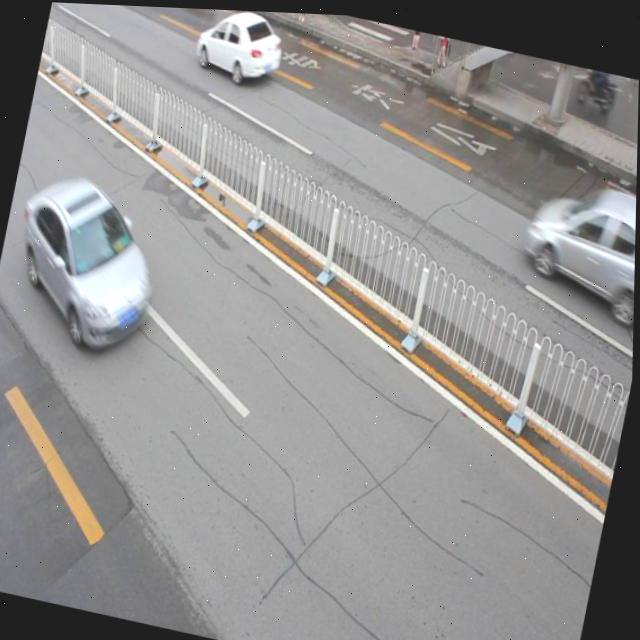car: (5, 168, 170, 358), (517, 167, 637, 313), (191, 7, 289, 89)
